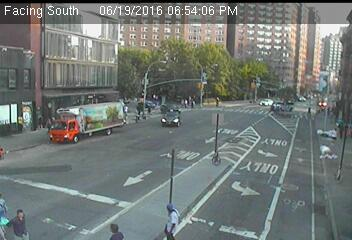neg: (262, 28, 282, 56), (30, 144, 48, 168), (149, 54, 167, 78), (227, 36, 245, 59), (270, 183, 287, 207), (248, 117, 265, 139), (299, 199, 315, 221), (283, 40, 297, 59), (249, 160, 263, 179), (143, 124, 157, 142), (141, 159, 154, 176), (274, 97, 287, 113), (56, 129, 68, 146), (213, 134, 225, 150), (90, 168, 102, 183), (63, 24, 75, 39), (284, 149, 295, 164), (115, 78, 125, 93), (249, 91, 259, 105), (304, 104, 314, 117), (198, 49, 208, 61)
pos: (155, 197, 183, 235), (7, 204, 30, 235), (107, 220, 119, 237), (212, 93, 223, 107), (119, 100, 130, 114), (180, 95, 190, 107), (188, 95, 197, 107)
